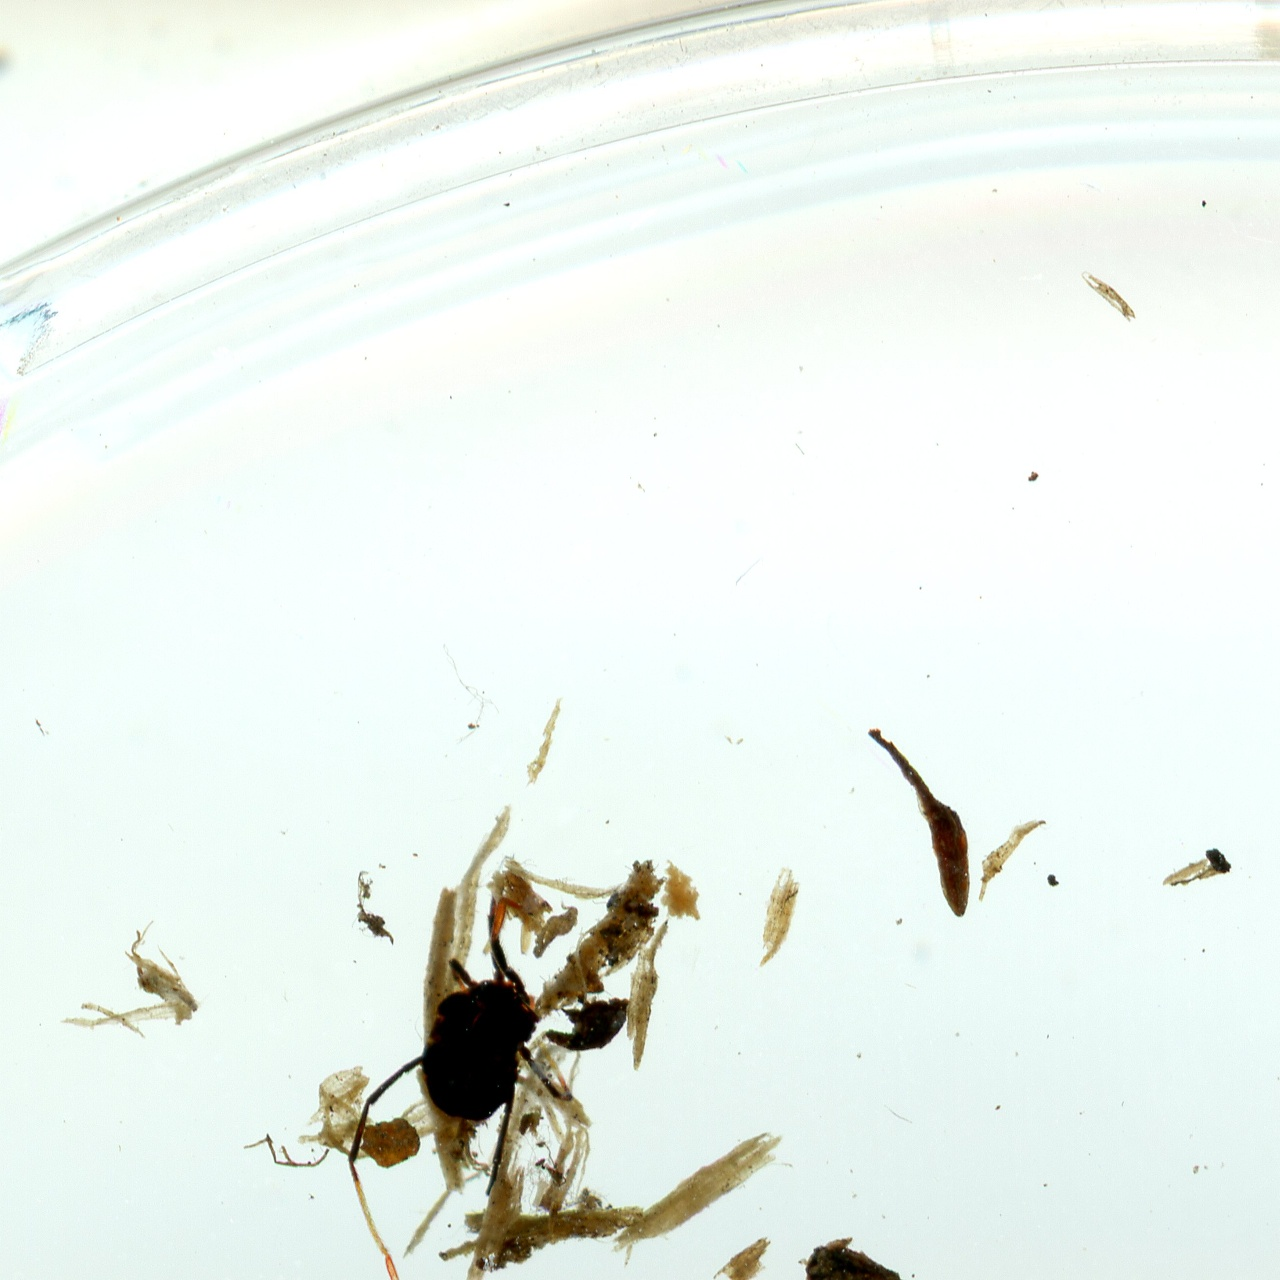arthropod: (342, 858, 576, 1280)
